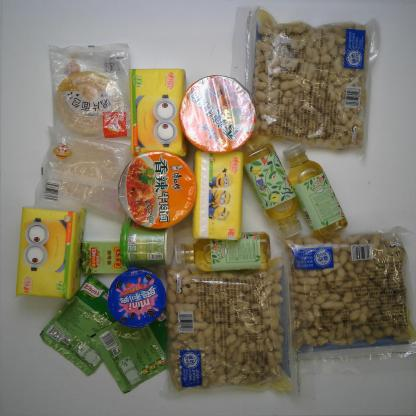Candy: (80, 240, 130, 274)
Dessert: (33, 124, 137, 226), (48, 41, 133, 141), (107, 265, 166, 329)
Dried Food: (157, 251, 316, 402), (230, 5, 380, 164), (277, 225, 416, 362)
Drink: (282, 141, 348, 240), (241, 142, 305, 240), (174, 232, 272, 273)
Instant Drink: (118, 216, 174, 270)
Instant Noodles: (118, 149, 198, 230), (178, 74, 258, 154)
Seasoner: (38, 272, 130, 378), (87, 317, 178, 394)
Tissue: (14, 205, 86, 300), (128, 68, 186, 158), (191, 148, 244, 242)
